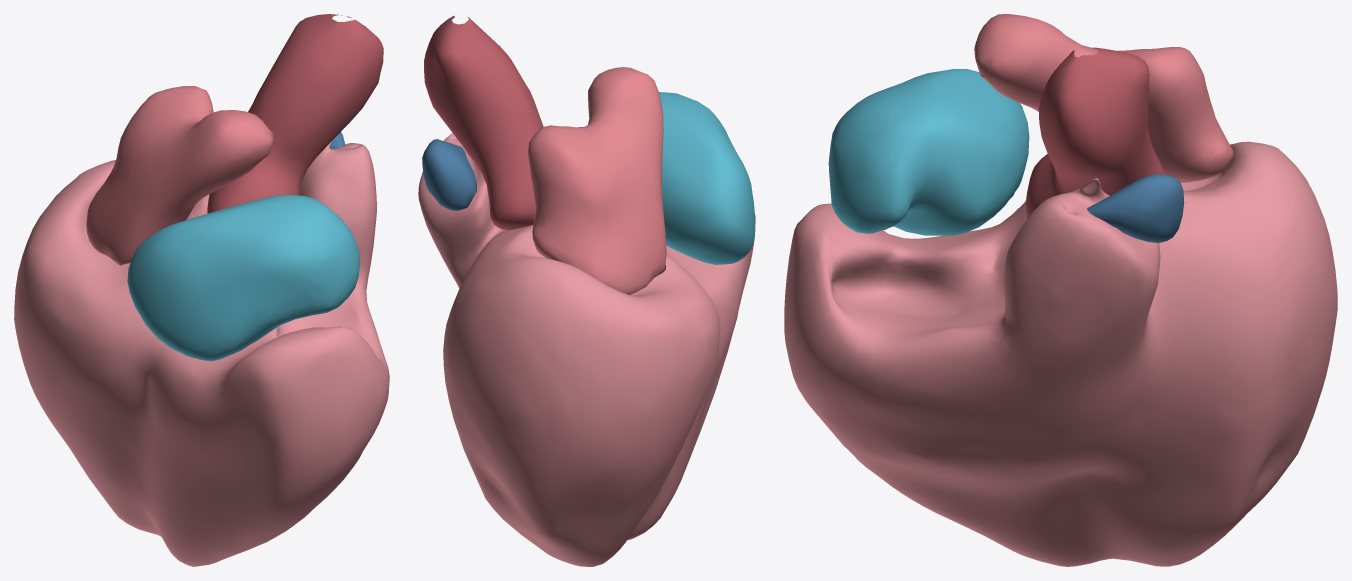
Rendered from frame_37.glb.
The picture shows the model from 3 angles, left to right: view 1: azimuth 30°, elevation 25°; view 2: azimuth 150°, elevation 25°; view 3: azimuth 270°, elevation 25°; orthographic projection. The views are drawn at different scales.
Visible parts, largest first — view 1: Renderer Node; view 2: Renderer Node; view 3: Renderer Node.
Part boxes in pixels (x1,y1,x2,y2): Renderer Node: (14, 14, 389, 566); Renderer Node: (418, 16, 755, 566); Renderer Node: (784, 14, 1337, 566).
Bounding box in the file's own units: 107 × 164 × 135.
